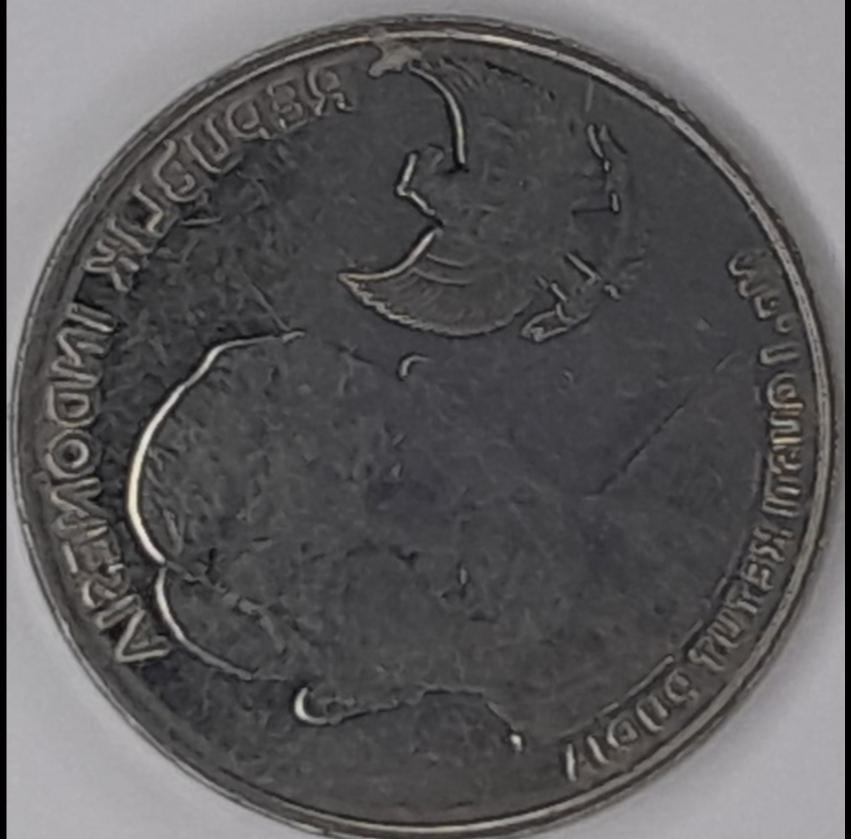coin_1000_e2016: (14, 17, 840, 839)
